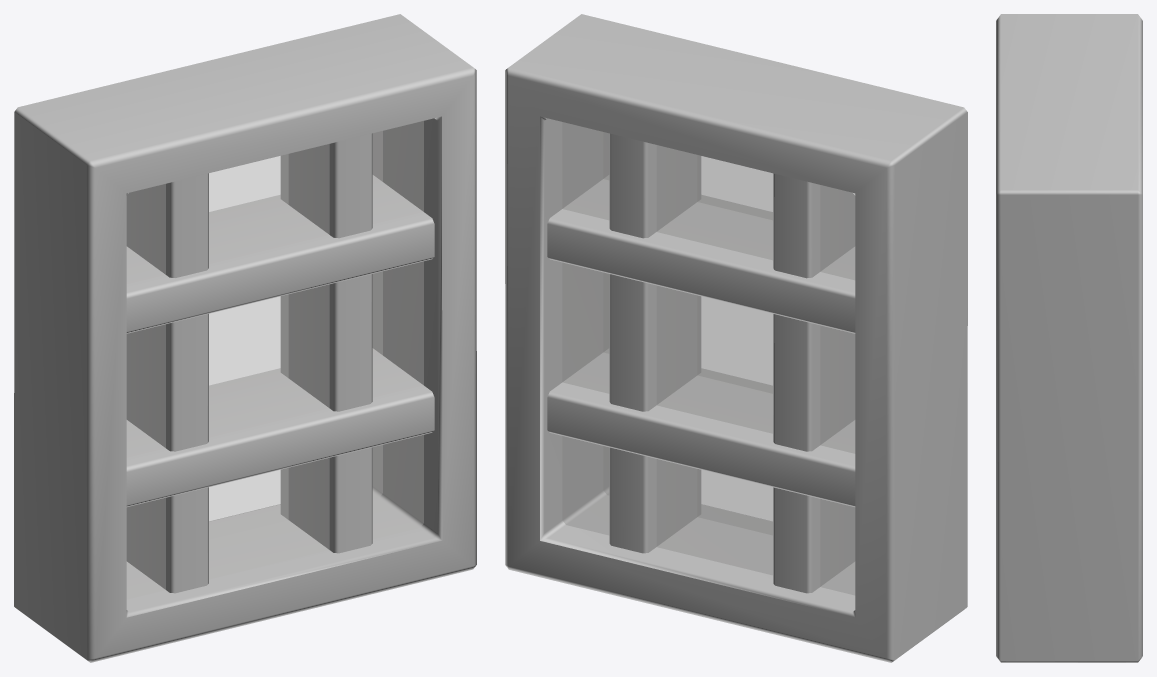
File: Window_20.fbx
The picture shows the model from 3 angles, left to right: view 1: azimuth 30°, elevation 25°; view 2: azimuth 150°, elevation 25°; view 3: azimuth 270°, elevation 25°; orthographic projection. The views are drawn at different scales.
Parts seen in each view (by area): view 1: Window_20; view 2: Window_20; view 3: Window_20.
Part boxes in pixels (x1,y1,x2,y2): Window_20: [14, 14, 476, 662]; Window_20: [505, 14, 967, 662]; Window_20: [996, 14, 1142, 662].
Size of the model in its own units: 162 by 199 by 55.95.
